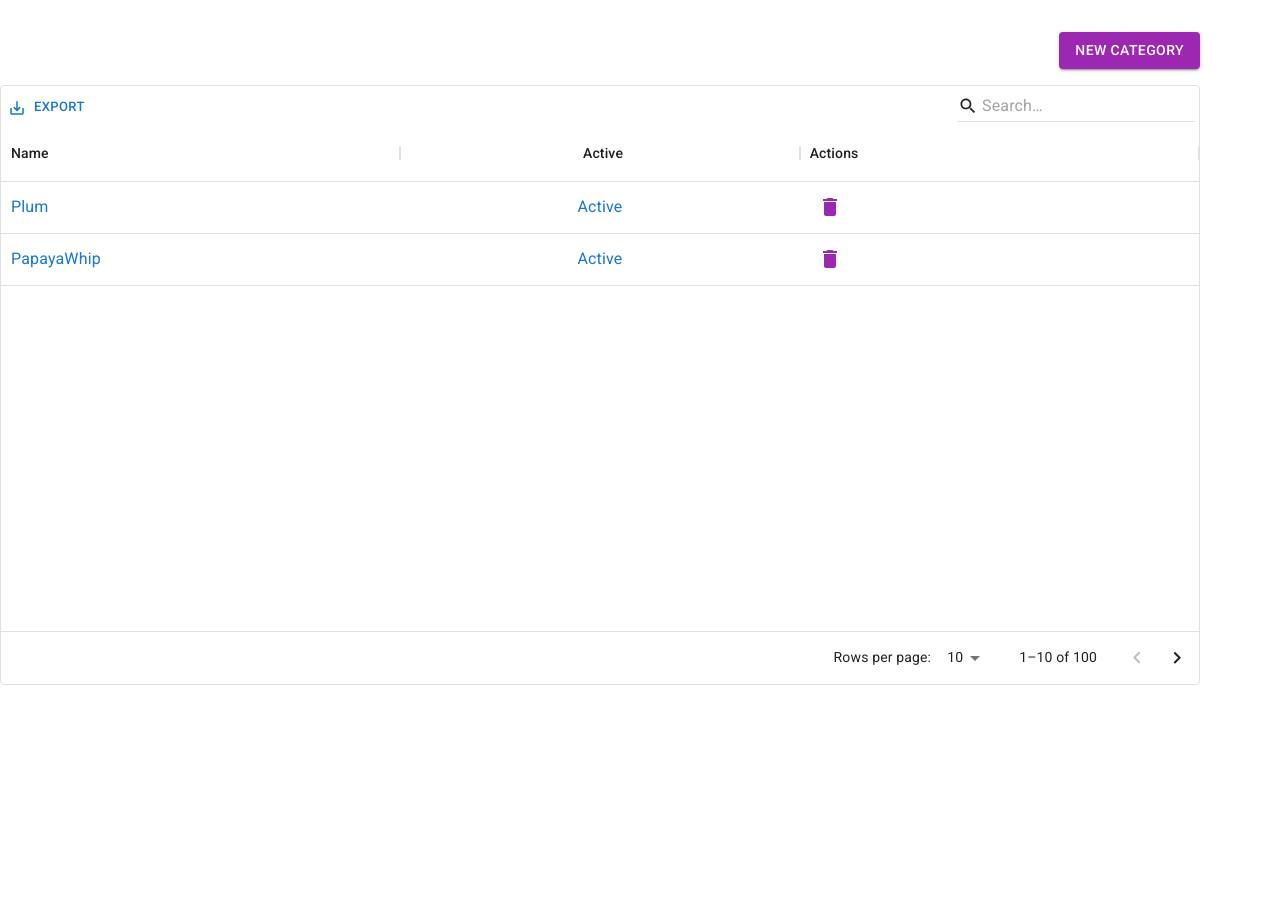
Scenario: ListCategory › should handle delete category success
The width and height of the screenshot is (1280, 900).
expect the text "Plum" is shown: met, box [11,195,48,219]
What coordinates should you click on to do the following:
click the button with test id "delete-button" in the row of "Plum"
I would click on:
 (830, 207)
Its box is [810,187,850,227].
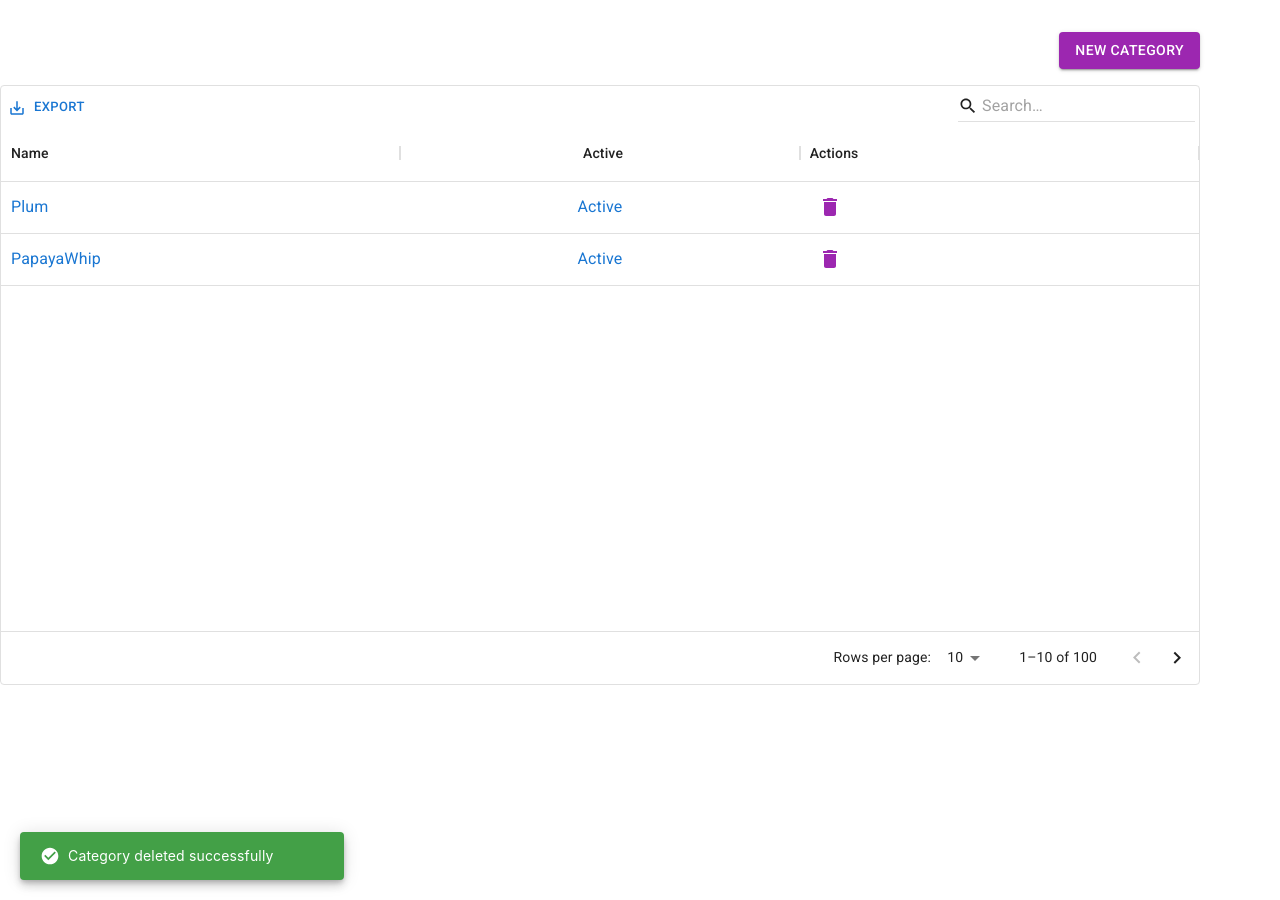
expect the text "Category deleted successfully" is shown: met, box [40,846,274,866]
